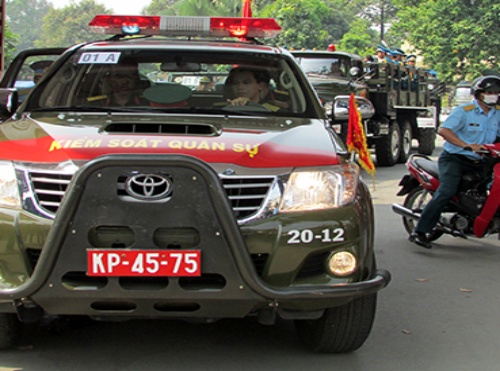plate: (84, 248, 203, 279)
